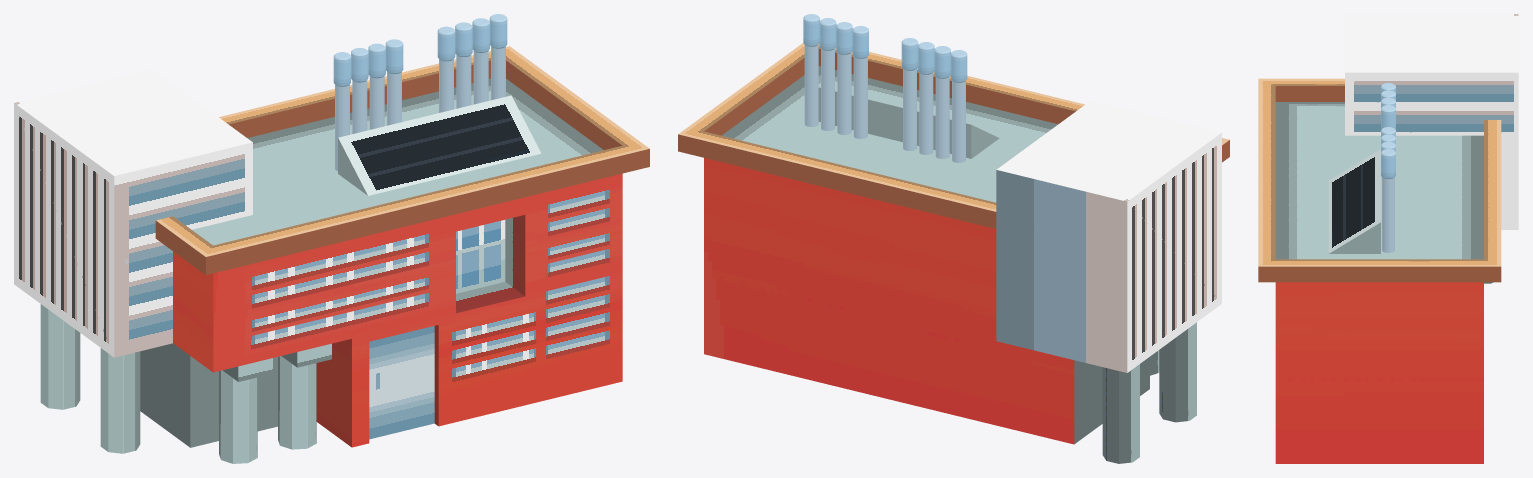
File: anita.glb
3 renders of one model, left to right at view 1: azimuth 30°, elevation 25°; view 2: azimuth 150°, elevation 25°; view 3: azimuth 270°, elevation 25°, orthographic. The views are drawn at different scales.
Parts seen in each view (by area): view 1: Cube, Cube.002, Cube.001, Door, Cylinder.011, Cylinder.010, Cylinder, Cylinder.001, Cylinder.002, Cylinder.008, Cylinder.004, Cylinder.007 (+4 smaller); view 2: Cube, Cube.002, Cylinder.010, Cylinder.011, Cube.001, Cylinder.003, Cylinder.004, Cylinder.007, Cylinder.009, Cylinder.006, Cylinder.002, Cylinder.008 (+1 smaller); view 3: Cube, Cube.002, Cube.001, Cylinder.009, Cylinder.005.
Boxes of the visible parts, x1=… form: Cube: x1=140, y1=46, x2=649, y2=447; Cube.002: x1=14, y1=69, x2=252, y2=357; Cube.001: x1=338, y1=95, x2=541, y2=195; Door: x1=369, y1=326, x2=434, y2=439; Cylinder.011: x1=100, y1=348, x2=140, y2=453; Cylinder.010: x1=40, y1=304, x2=80, y2=409; Cylinder: x1=219, y1=370, x2=257, y2=463; Cylinder.001: x1=278, y1=356, x2=316, y2=449; Cylinder.002: x1=333, y1=52, x2=351, y2=170; Cylinder.008: x1=472, y1=18, x2=489, y2=104; Cylinder.004: x1=368, y1=43, x2=385, y2=129; Cylinder.007: x1=455, y1=22, x2=472, y2=108; Cube: x1=678, y1=43, x2=1229, y2=444; Cube.002: x1=996, y1=100, x2=1221, y2=372; Cylinder.010: x1=1102, y1=364, x2=1139, y2=463; Cylinder.011: x1=1159, y1=322, x2=1196, y2=422; Cube.001: x1=818, y1=87, x2=999, y2=158; Cylinder.003: x1=934, y1=46, x2=950, y2=158; Cylinder.004: x1=918, y1=42, x2=934, y2=154; Cylinder.007: x1=836, y1=22, x2=852, y2=134; Cylinder.009: x1=803, y1=14, x2=819, y2=126; Cylinder.006: x1=852, y1=26, x2=868, y2=138; Cylinder.002: x1=950, y1=50, x2=967, y2=162; Cylinder.008: x1=819, y1=18, x2=836, y2=130; Cube: x1=1258, y1=78, x2=1501, y2=463; Cube.002: x1=1345, y1=14, x2=1518, y2=229; Cube.001: x1=1328, y1=149, x2=1380, y2=253; Cylinder.009: x1=1381, y1=149, x2=1395, y2=252; Cylinder.005: x1=1381, y1=105, x2=1395, y2=129.
Size of the model in its own units: 7 by 4.56 by 3.75.
Materials: 8 (8 with a texture image).
